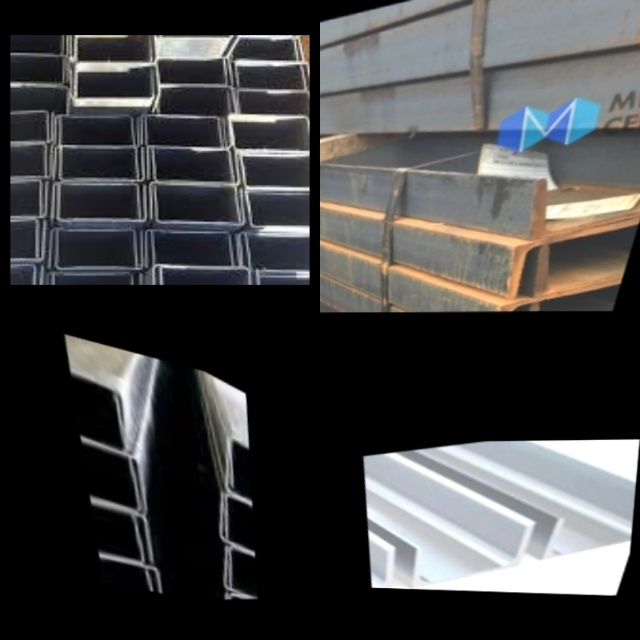Shveller: (505, 213, 640, 294), (527, 152, 640, 240), (402, 526, 533, 589), (529, 223, 640, 293), (542, 496, 635, 560), (77, 437, 149, 512), (67, 371, 131, 450), (67, 375, 127, 452), (78, 441, 142, 513), (501, 275, 626, 311), (88, 502, 156, 563), (88, 504, 146, 564), (531, 276, 626, 311), (152, 183, 238, 220), (155, 188, 244, 223), (56, 232, 142, 268), (50, 231, 136, 267), (153, 233, 240, 268), (52, 184, 141, 217), (59, 187, 145, 220), (214, 493, 258, 557), (147, 231, 232, 264), (148, 147, 233, 180), (229, 116, 309, 150), (237, 233, 310, 270), (153, 150, 237, 182), (54, 147, 139, 178), (145, 118, 229, 148), (76, 64, 157, 95), (61, 149, 143, 179), (231, 116, 310, 146), (246, 237, 310, 273), (71, 71, 153, 99), (220, 439, 255, 504), (142, 116, 222, 143), (219, 548, 260, 600), (239, 156, 310, 186), (232, 93, 310, 120), (56, 116, 133, 143), (60, 119, 137, 146), (221, 498, 258, 554), (244, 194, 310, 225), (248, 194, 310, 227), (235, 63, 310, 90), (242, 158, 310, 187), (74, 35, 156, 59), (77, 35, 150, 61), (224, 547, 260, 599), (153, 266, 248, 285), (236, 95, 310, 119), (356, 550, 401, 589), (160, 61, 226, 85), (10, 87, 68, 114), (156, 61, 224, 84), (10, 56, 67, 82), (158, 90, 229, 110), (10, 221, 44, 261), (10, 59, 64, 84), (10, 182, 46, 218), (10, 146, 51, 177), (10, 116, 53, 145), (161, 271, 249, 285), (231, 42, 302, 59), (47, 271, 131, 285), (10, 219, 38, 261), (10, 146, 46, 178), (10, 112, 48, 142), (10, 35, 63, 55), (10, 35, 67, 53), (10, 182, 41, 215), (54, 274, 142, 285), (228, 44, 297, 58)
